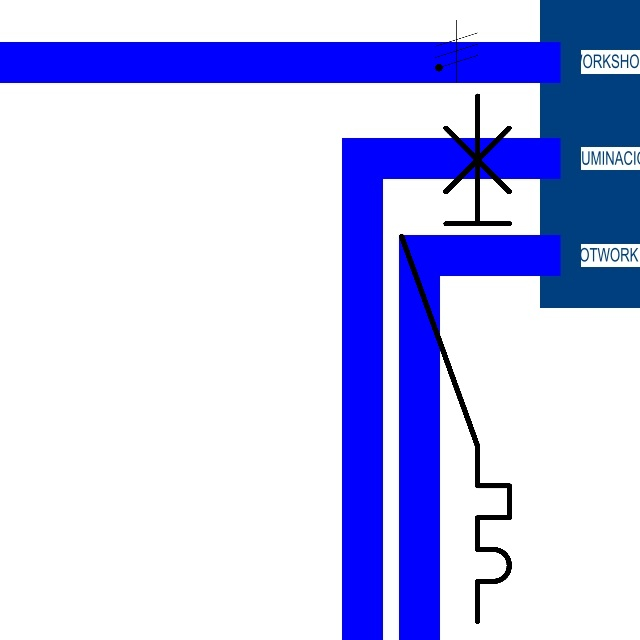interruptor_termomagnetico: (388, 82, 523, 635)
